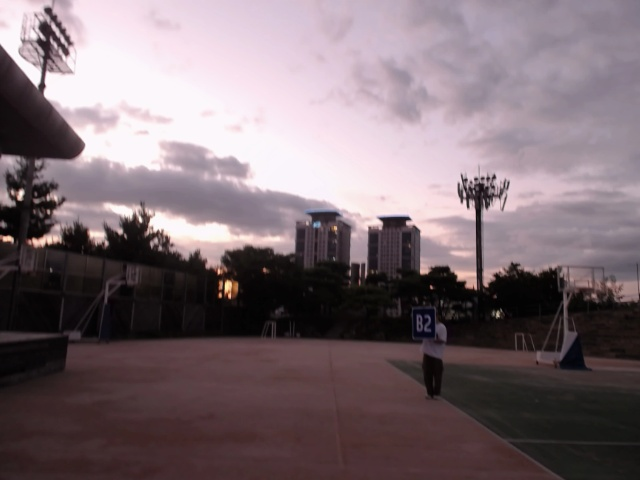delivery_b2: (411, 307, 437, 339)
